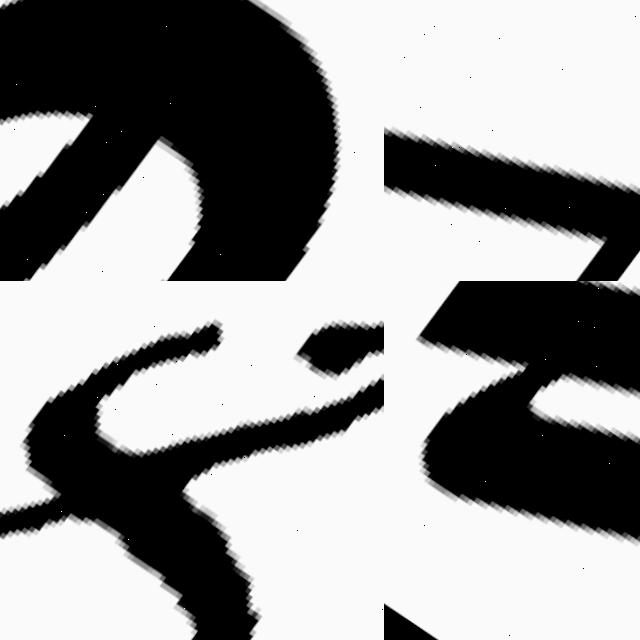H: (417, 281, 640, 542)
L: (384, 0, 640, 281)
X: (0, 281, 384, 640)
